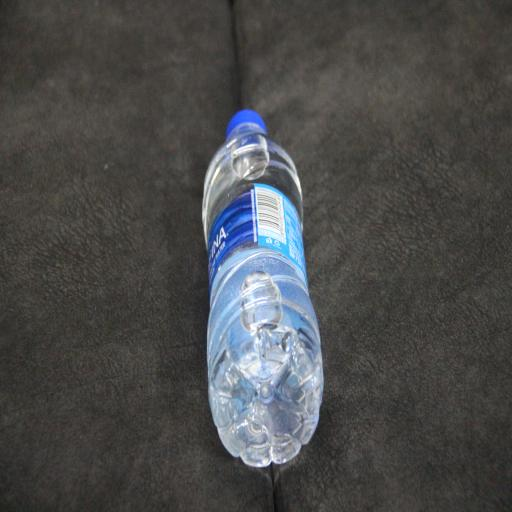Aquafina: (188, 94, 336, 476)
